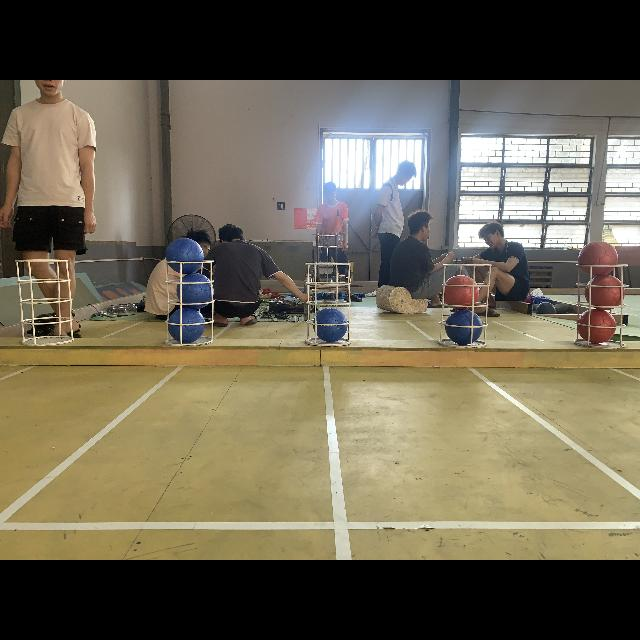B: (165, 238, 203, 272), (176, 274, 214, 308), (168, 308, 206, 342), (446, 310, 482, 344), (313, 308, 347, 342)
R: (577, 310, 617, 344), (584, 276, 624, 310), (578, 241, 618, 275), (444, 276, 480, 308)
